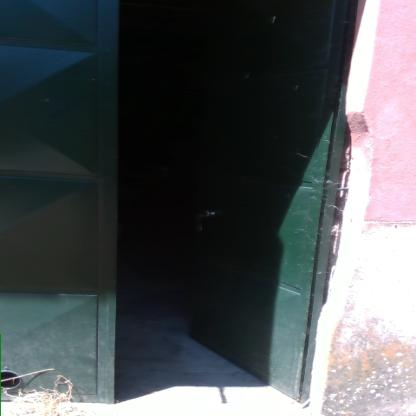open: (74, 2, 361, 407)
